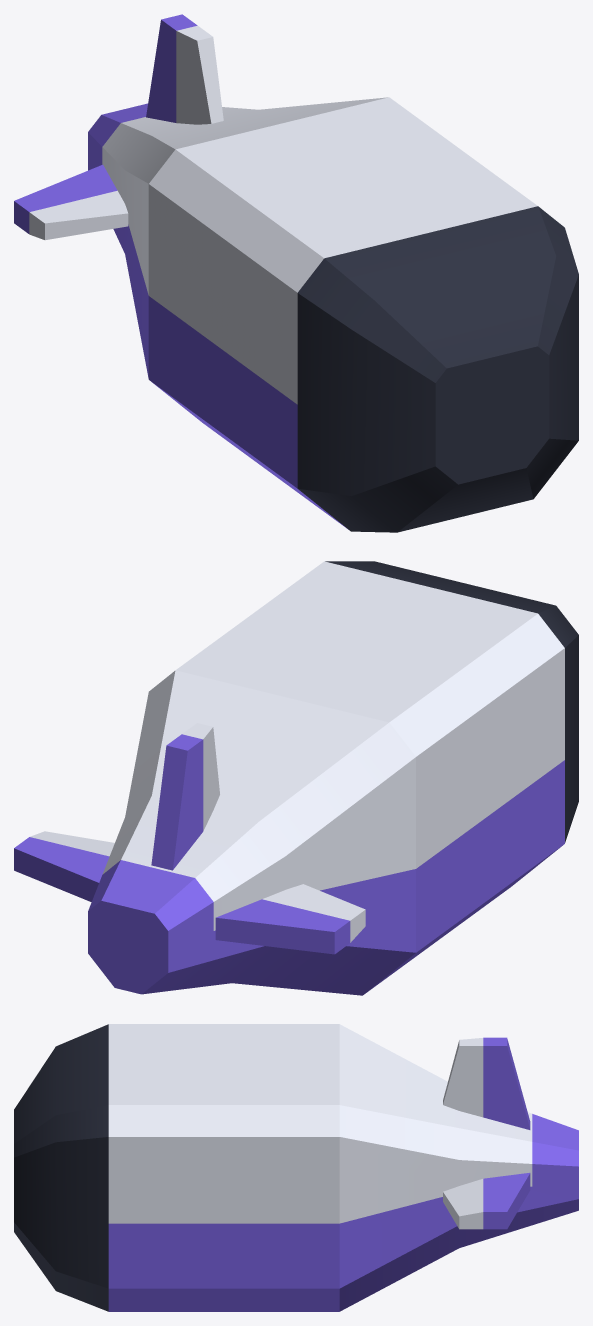
Rendered from submarine.glb.
The picture shows the model from 3 angles, top to bottom: view 1: azimuth 30°, elevation 25°; view 2: azimuth 150°, elevation 25°; view 3: azimuth 270°, elevation 25°; orthographic projection. The views are drawn at different scales.
Parts seen in each view (by area): view 1: mergedBlocks(Clone); view 2: mergedBlocks(Clone); view 3: mergedBlocks(Clone).
Boxes of the visible parts, x1,y1,x2,y2 form: mergedBlocks(Clone): (14,14,578,532); mergedBlocks(Clone): (14,561,578,995); mergedBlocks(Clone): (14,1024,578,1311).
Size of the model in its own units: 1.2 by 1.1 by 2.36.
